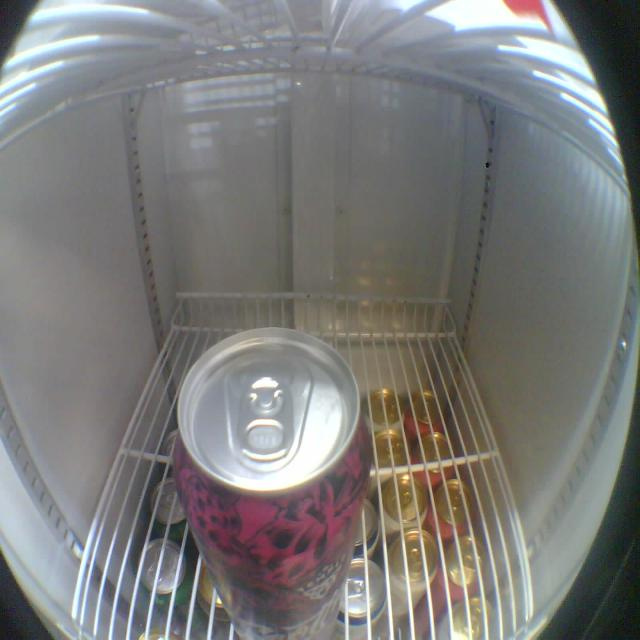metal: (171, 326, 376, 640)
